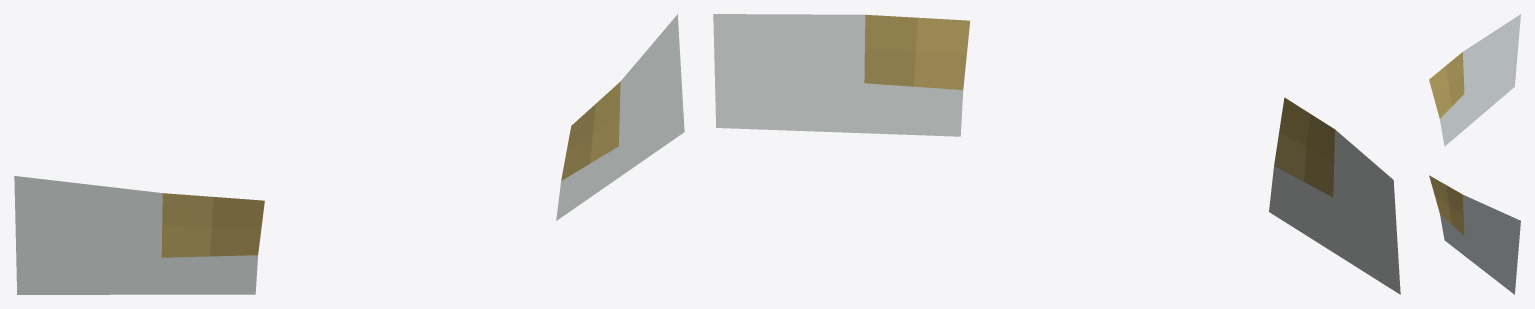
The model's file is yeux_05.fbx.
3 renders of one model, left to right at view 1: azimuth 30°, elevation 25°; view 2: azimuth 150°, elevation 25°; view 3: azimuth 270°, elevation 25°, orthographic. The views are drawn at different scales.
Visible parts, largest first — view 1: Cube.001; view 2: Cube.001; view 3: Cube.001.
Part boxes in pixels (left/top/right/bottom): Cube.001: left=14, top=14, right=684, bottom=294; Cube.001: left=713, top=14, right=1400, bottom=294; Cube.001: left=1429, top=14, right=1520, bottom=294.
Bounding box in the file's own units: 114 × 19.45 × 21.3.
